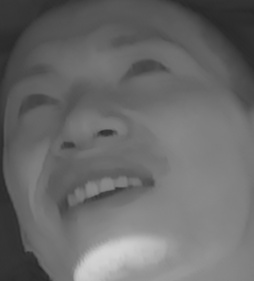eye: (115, 53, 173, 84), (12, 87, 62, 117)
mouth: (48, 161, 157, 226)
